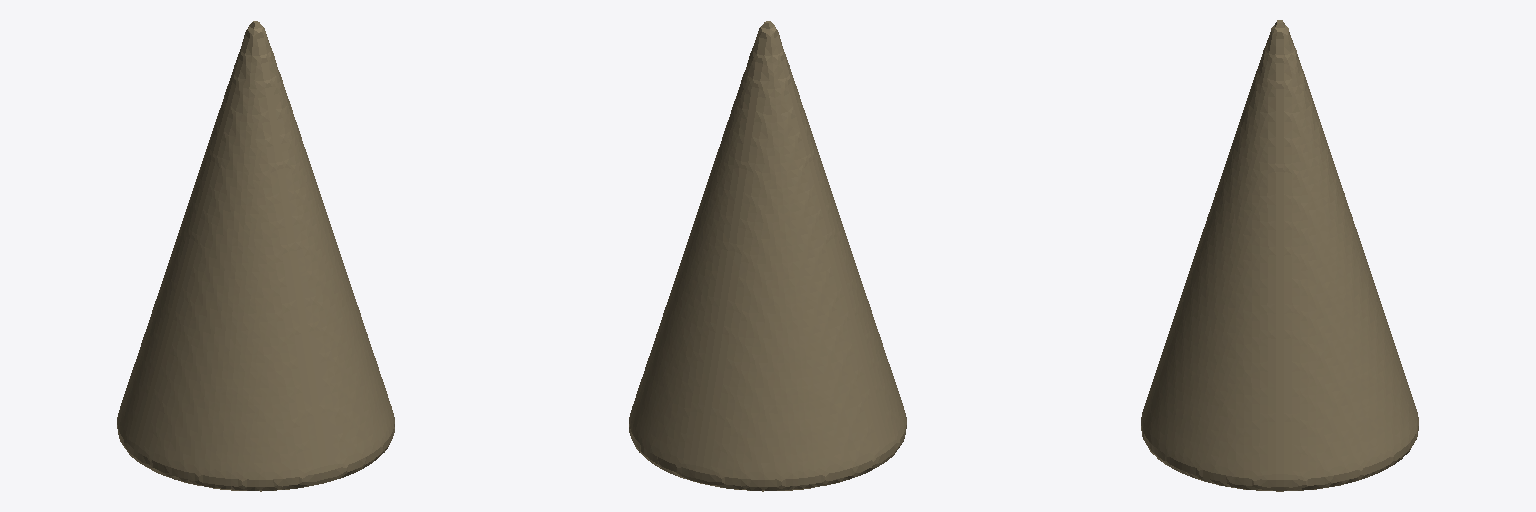
The robot description file, URDF, robot "cone":
<?xml version="1.0"?>
<robot name="cone">
  <link name="base_link">
    <visual>
      <origin xyz="0 0 0" rpy="0 0 0" />
      <geometry>
        <mesh filename="cone.obj"/>      
      </geometry>
      <material name="tan">
        <color rgba="0.55 0.5 0.4 1"/>
      </material>
    </visual>
    <collision>
      <origin xyz="0 0 0" rpy="0 0 0" />
      <geometry>
        <mesh filename="cone.obj"/>
      </geometry>
    </collision>
  </link>
</robot>

--- What the picture shows (computed from the rendered views, not written in the file) ---
Views: 3 orthographic renders of the robot side by side, from view 1: azimuth 30°, elevation 25°; view 2: azimuth 150°, elevation 25°; view 3: azimuth 270°, elevation 25°.
Robot: cone — 1 links, 0 joints (none); root link base_link; default pose: all joints at 0.
Links seen in each view (by area): view 1: base_link; view 2: base_link; view 3: base_link.
Link boxes in pixels (x1=…): base_link: x1=117, y1=21, x2=394, y2=491; base_link: x1=629, y1=21, x2=906, y2=491; base_link: x1=1141, y1=20, x2=1418, y2=491.
Bounding box of the posed robot: 15.21 × 15.21 × 25.16 m (x, y, z).
1 mesh visuals loaded from 1 distinct referenced files (1 OBJ).
